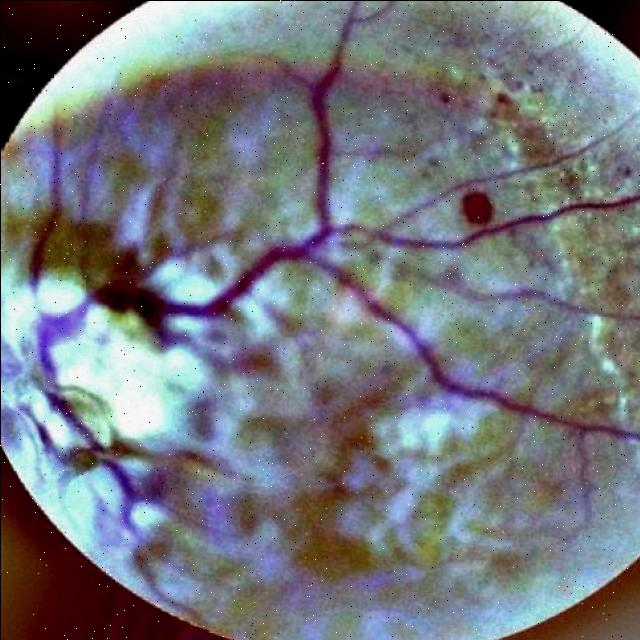Macula: (453, 188, 502, 224)
Nerves: (37, 69, 574, 463)
Optic Disk: (0, 292, 109, 519)
